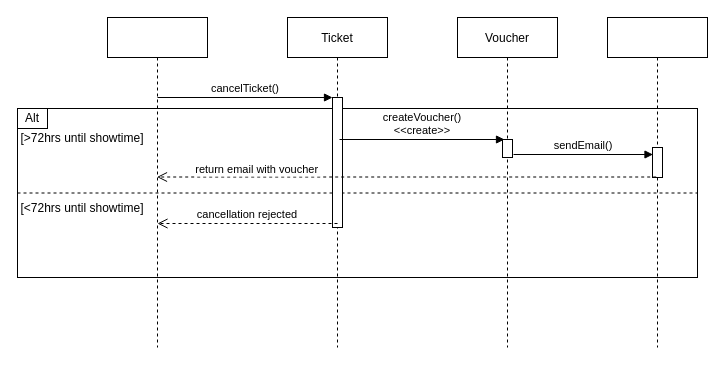
Image size: 725x365. Some labels were removed from this diagram. The centre of each missing label's shape, as x and y in pixels:
"Email Service" belongs at point (657, 182).
"User" belongs at point (157, 182).
